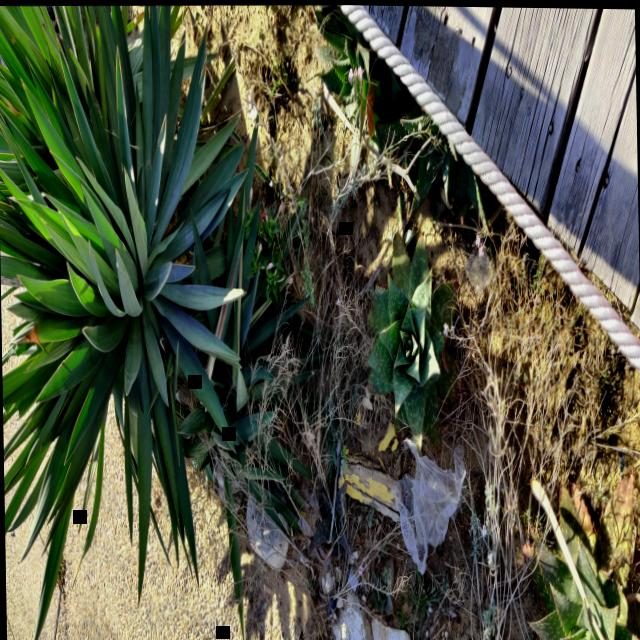Cigarette: (262, 582, 270, 593)
Plastic film: (391, 436, 465, 572), (297, 514, 328, 570), (463, 234, 489, 297)
